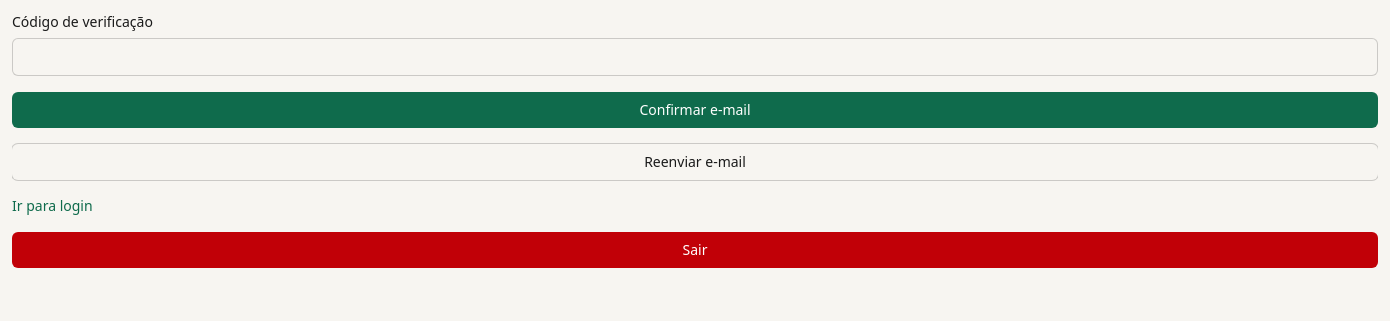
Test case: VerifyEmailForm (EV-08–15, BFFUI-51) › shows uniform message for 403 INVALID_VERIFICATION_TOKEN (EV-08)
Type "expired-token" into the field labelled "Código de verificação" at (695, 57), box [12,38,1378,76]
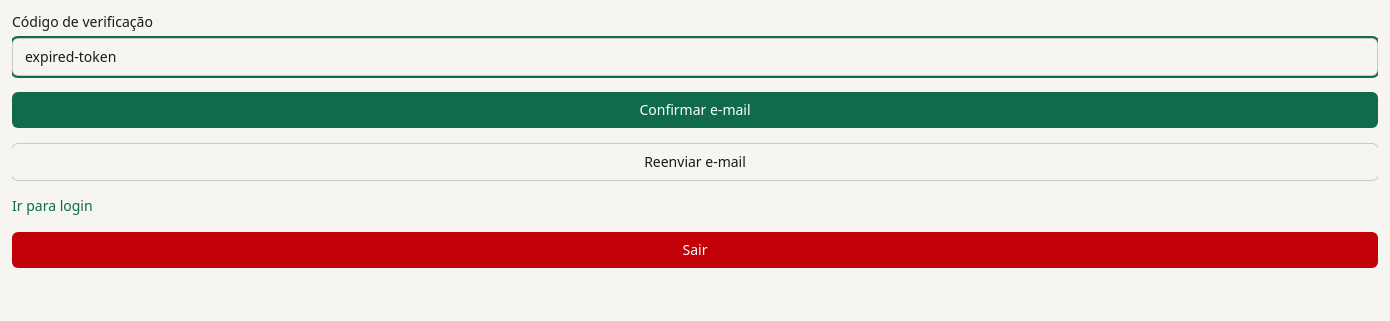
Click the button "Confirmar e-mail" at (695, 110), box [12,92,1378,128]
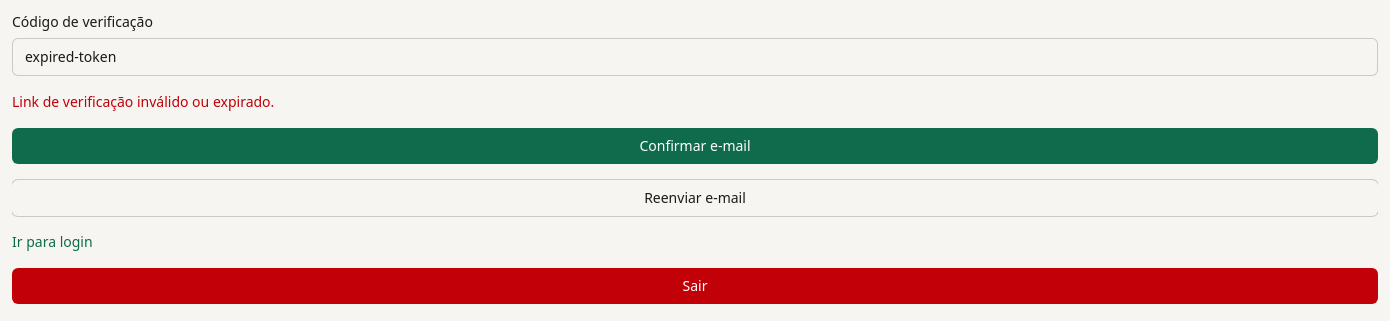
Expected: the message reads "Link de verificação inválido ou expirado.", [12,92,274,111]
